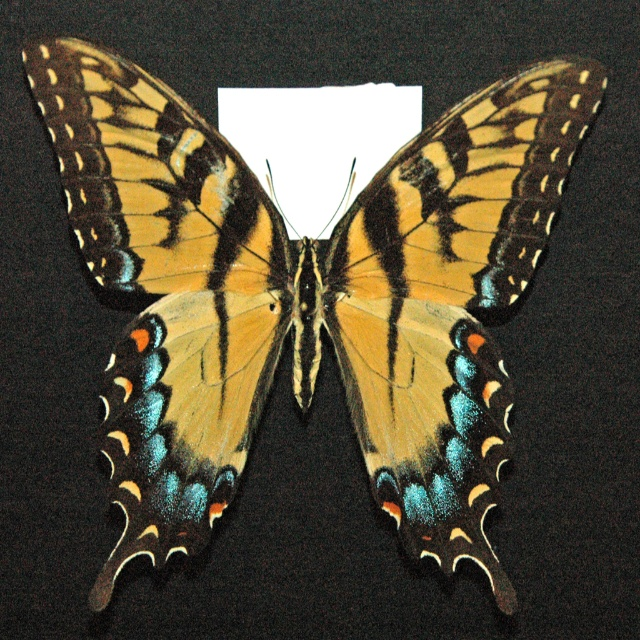Butterfly: (24, 30, 602, 592)
